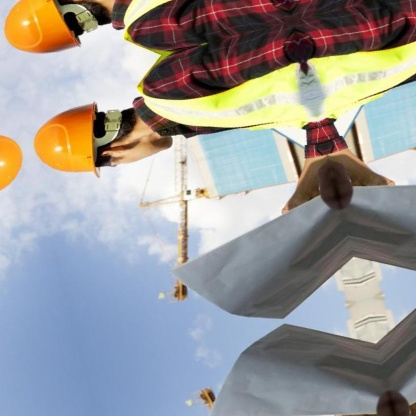vest: (130, 23, 315, 170)
